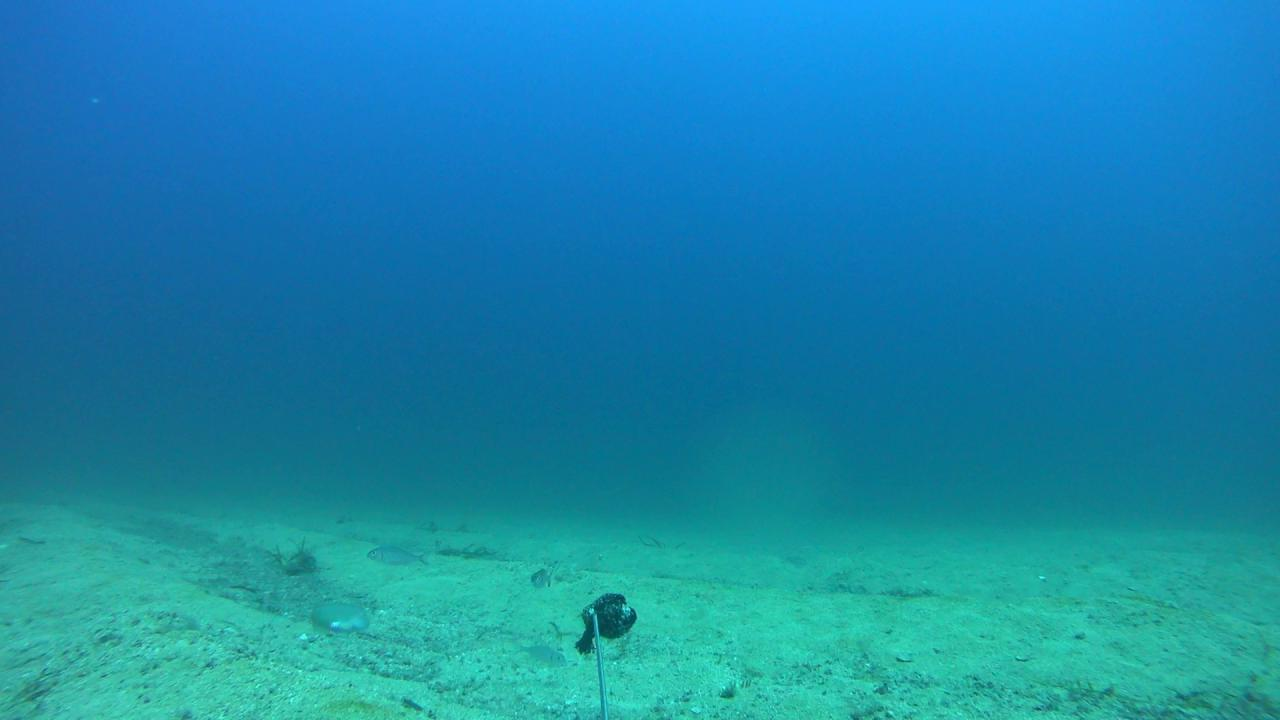pagellus: (512, 646, 570, 670), (365, 546, 431, 565), (527, 562, 560, 592)
raor: (306, 598, 370, 633)
